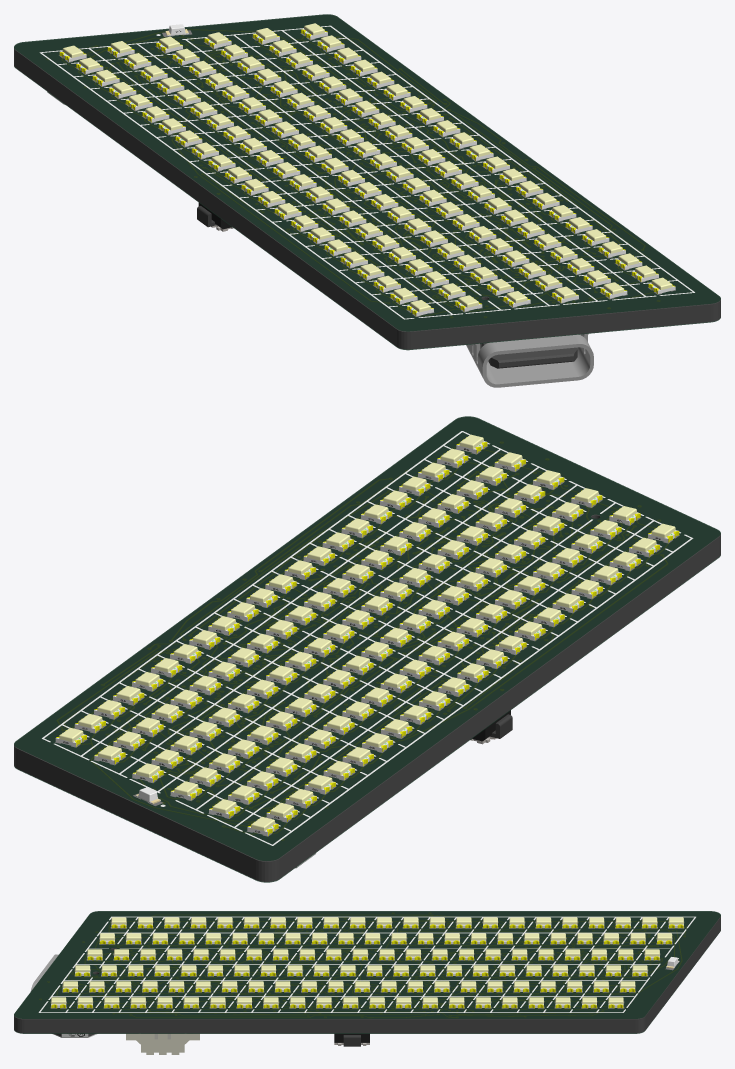
File: board.glb
3 renders of one model, top to bottom at view 1: azimuth 30°, elevation 25°; view 2: azimuth 150°, elevation 25°; view 3: azimuth 270°, elevation 25°, orthographic. The views are drawn at different scales.
Visible parts, largest first — view 1: parallelogram_soldermask (×2), parallelogram_PCB, parallelogram_silkscreen, USB-C-SMD_TYPE-C-31-M-22, parallelogram_pad, parallelogram_copper; view 2: parallelogram_soldermask (×2), parallelogram_PCB, parallelogram_silkscreen, parallelogram_copper, parallelogram_pad; view 3: parallelogram_soldermask (×2), parallelogram_PCB, parallelogram_silkscreen, parallelogram_pad, Molex_PicoBlade_53261-0271_1x02-1MP_P1.25mm_Horizontal, parallelogram_copper, SW-SMD_EVQP7C01P-L3.6-W3.5-H1.4-P3.6-LS4.7.
Part boxes in pixels (left/top/right/bottom): parallelogram_soldermask (×2): left=14, top=14, right=720, bottom=350; parallelogram_PCB: left=14, top=15, right=720, bottom=349; parallelogram_silkscreen: left=39, top=25, right=694, bottom=319; USB-C-SMD_TYPE-C-31-M-22: left=466, top=333, right=593, bottom=387; parallelogram_pad: left=59, top=30, right=675, bottom=316; parallelogram_copper: left=46, top=29, right=659, bottom=317; parallelogram_soldermask (×2): left=14, top=416, right=720, bottom=882; parallelogram_PCB: left=14, top=417, right=720, bottom=881; parallelogram_silkscreen: left=42, top=431, right=693, bottom=845; parallelogram_copper: left=57, top=442, right=668, bottom=840; parallelogram_pad: left=55, top=446, right=679, bottom=836; parallelogram_soldermask (×2): left=14, top=911, right=720, bottom=1033; parallelogram_PCB: left=14, top=912, right=720, bottom=1033; parallelogram_silkscreen: left=38, top=916, right=695, bottom=1012; parallelogram_pad: left=50, top=921, right=684, bottom=1008; Molex_PicoBlade_53261-0271_1x02-1MP_P1.25mm_Horizontal: left=126, top=1034, right=199, bottom=1054; parallelogram_copper: left=39, top=915, right=685, bottom=1017; SW-SMD_EVQP7C01P-L3.6-W3.5-H1.4-P3.6-LS4.7: left=334, top=1034, right=369, bottom=1046.
Bounding box in the file's own units: 0.0259 × 0.00568 × 0.0693.
